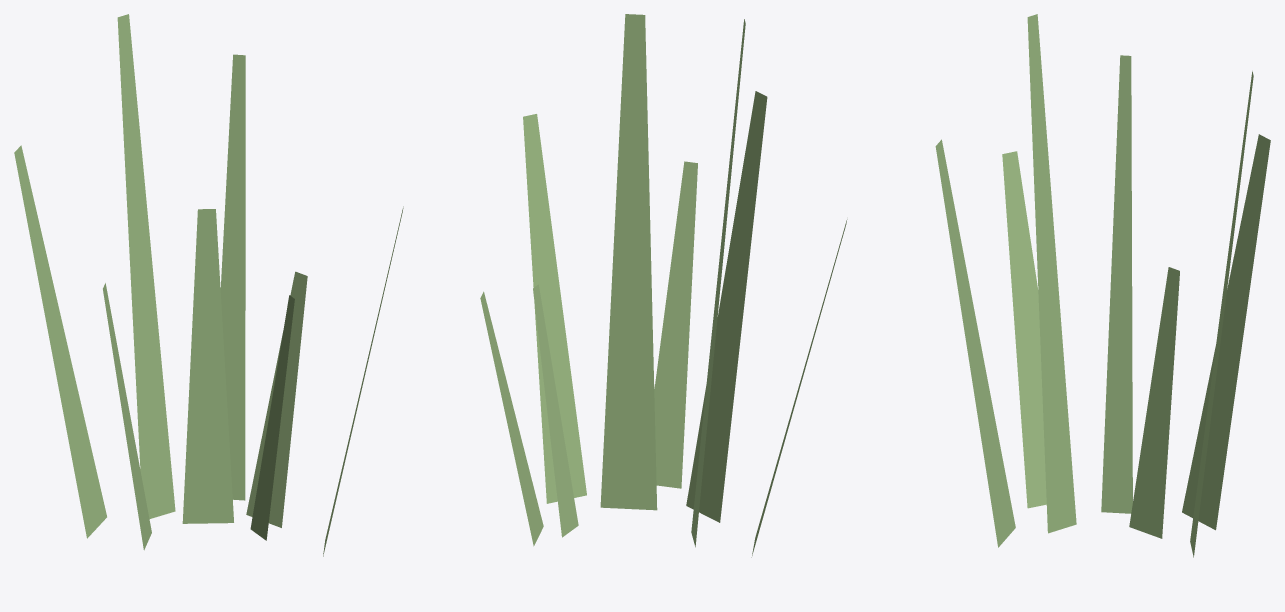
Rendered from grass_tuft_a.glb.
The picture shows the model from 3 angles, left to right: view 1: azimuth 30°, elevation 25°; view 2: azimuth 150°, elevation 25°; view 3: azimuth 270°, elevation 25°; orthographic projection. The views are drawn at different scales.
Parts seen in each view (by area): view 1: grass; view 2: grass; view 3: grass.
Part boxes in pixels (x1,y1,x2,y2): grass: (14, 14, 403, 556); grass: (480, 14, 847, 557); grass: (935, 14, 1270, 557).
Size of the model in its own units: 0.7989 by 1.2 by 0.8646.
